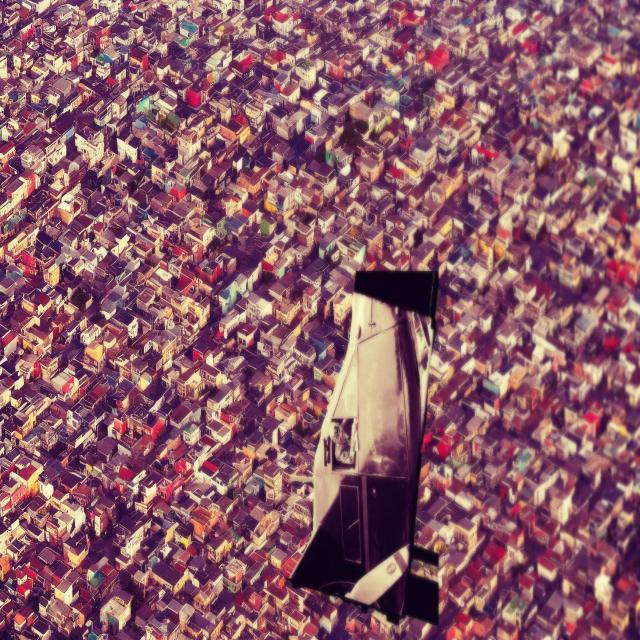airplane: (289, 266, 441, 626)
